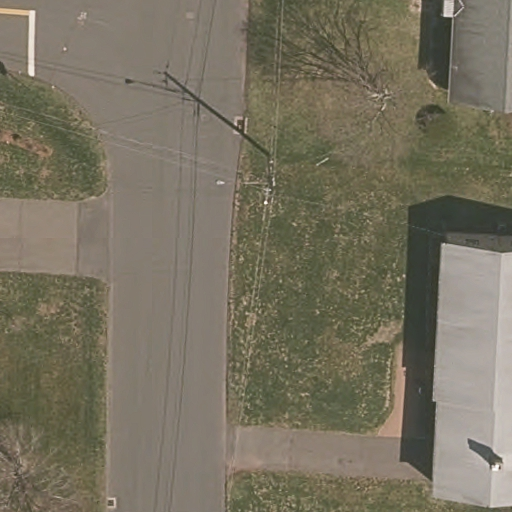DT: (253, 170, 283, 204)
